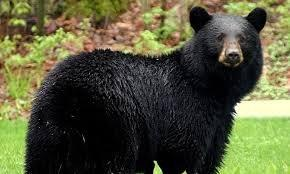bear: (25, 6, 267, 174)
